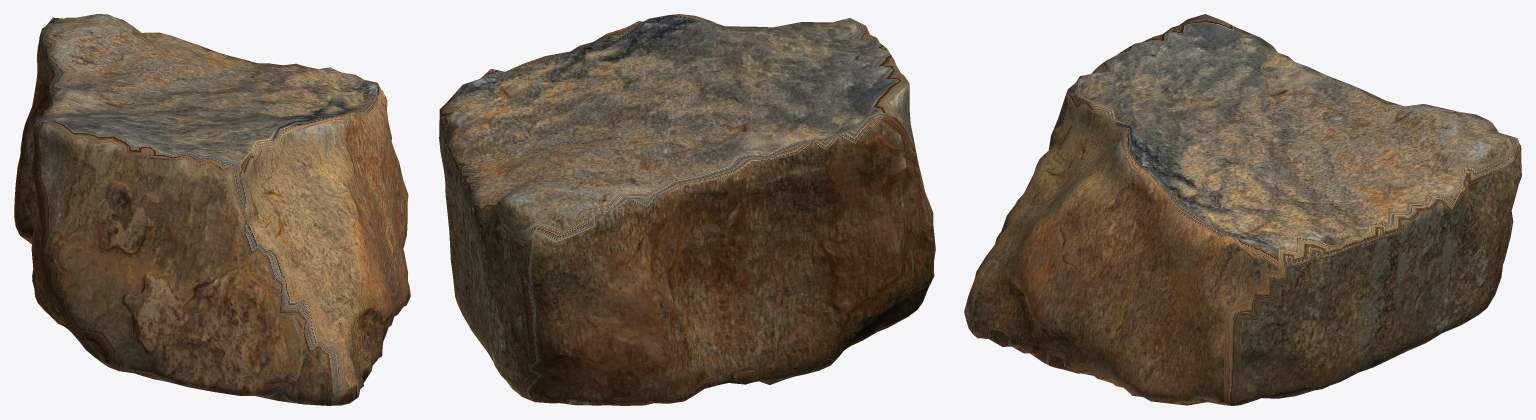
The model's file is rock.gltf.
3 views of the same model, side by side, from view 1: azimuth 30°, elevation 25°; view 2: azimuth 150°, elevation 25°; view 3: azimuth 270°, elevation 25° (orthographic). The views are drawn at different scales.
Visible parts, largest first — view 1: namaqualand_boulder_03_LOD0; view 2: namaqualand_boulder_03_LOD0; view 3: namaqualand_boulder_03_LOD0.
Boxes of the visible parts, x1,y1,x2,y2 form: namaqualand_boulder_03_LOD0: (14, 14, 410, 405); namaqualand_boulder_03_LOD0: (439, 14, 935, 405); namaqualand_boulder_03_LOD0: (964, 14, 1521, 405).
Size of what is drawn, in the model's own units: 2.4 by 1.45 by 3.06.
